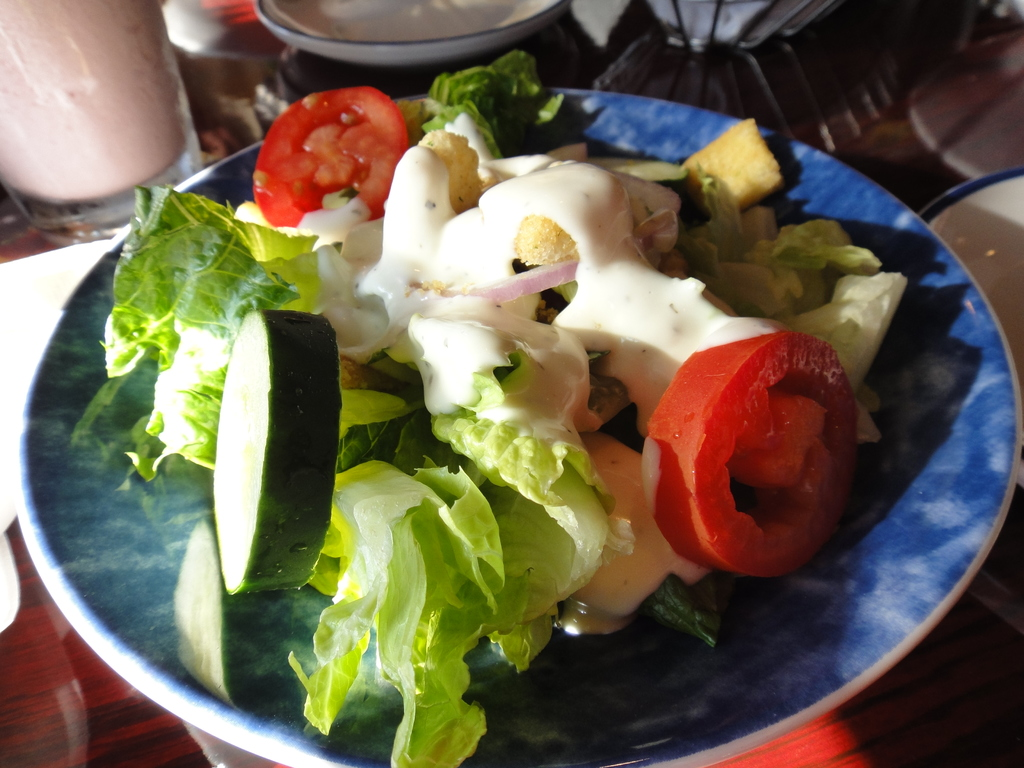salad: (98, 47, 919, 767)
